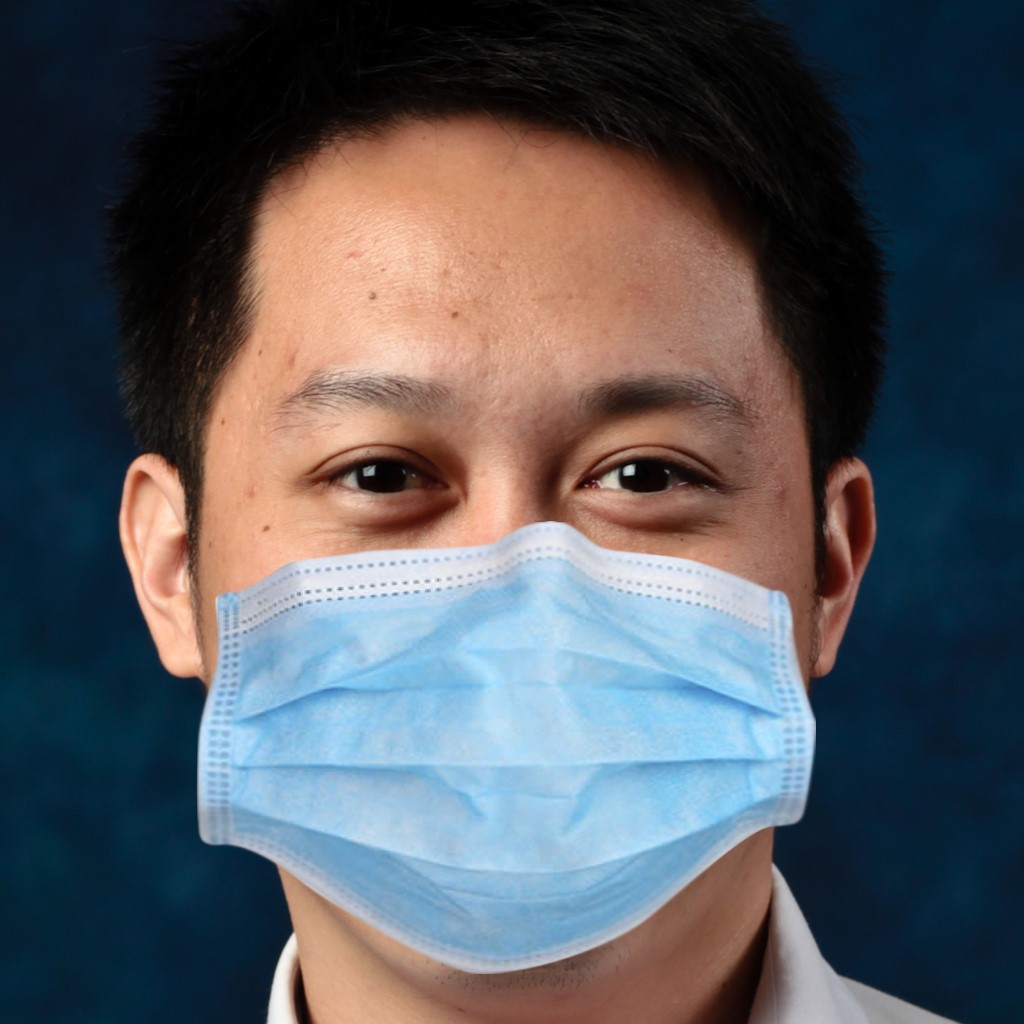con_mascara: (167, 162, 822, 957)
